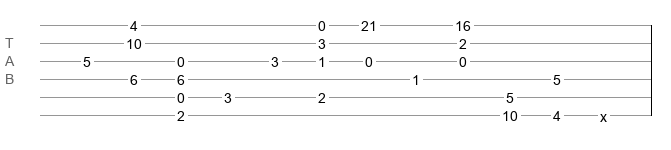0: (177, 54, 185, 64), (177, 90, 185, 100), (318, 18, 326, 28), (365, 54, 373, 64), (459, 54, 467, 64)
1: (318, 54, 326, 64), (412, 72, 420, 82)
10: (126, 36, 142, 46), (502, 108, 518, 118)
16: (455, 18, 471, 28)
2: (177, 108, 185, 118), (318, 90, 326, 100), (459, 36, 467, 46)
21: (361, 18, 377, 28)
3: (224, 90, 232, 100), (271, 54, 279, 64), (318, 36, 326, 46)
4: (130, 18, 138, 28), (553, 108, 561, 118)
5: (83, 54, 91, 64), (506, 90, 514, 100), (553, 72, 561, 82)
6: (130, 72, 138, 82), (177, 72, 185, 82)
x: (600, 109, 607, 117)
